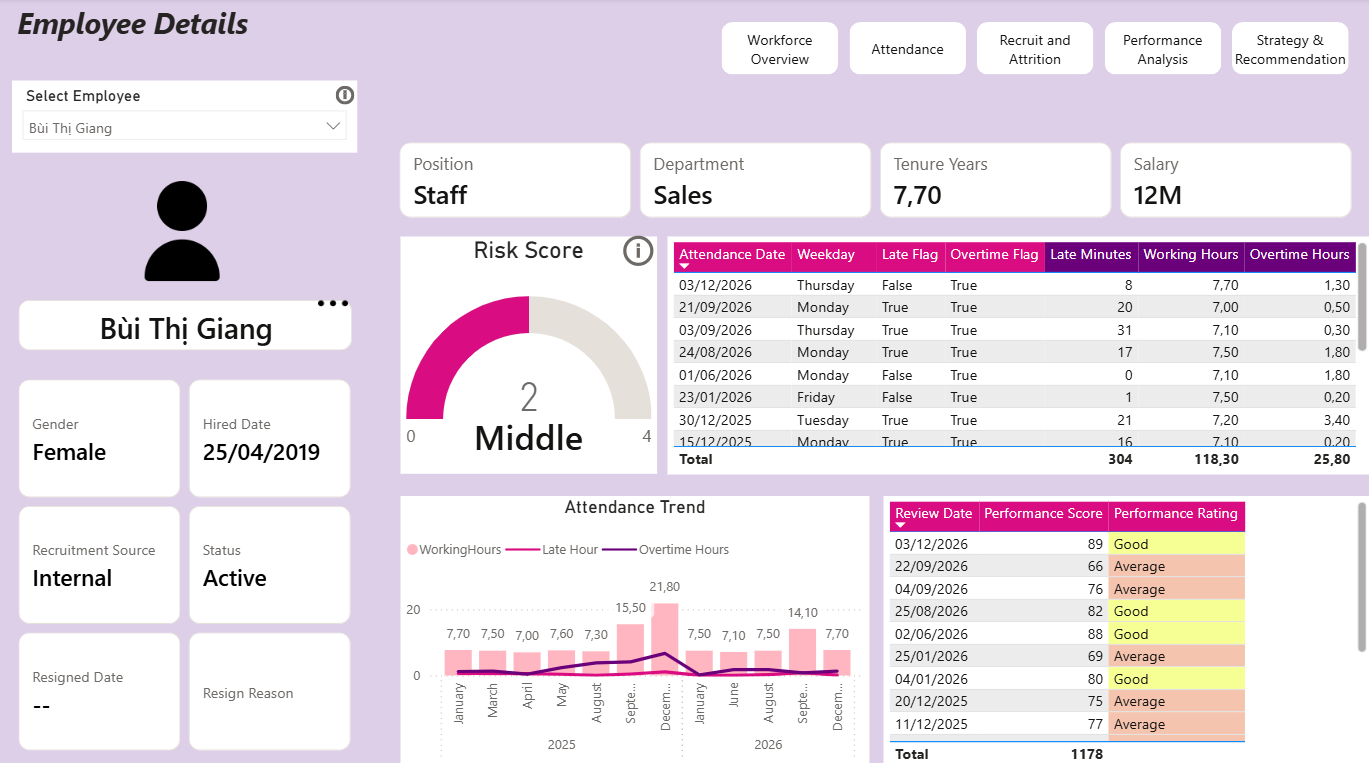

What the dashboard file says about the page in this screenshot:
{"tool":"powerbi","page":{"name":"Employee details","canvas":[1280,720],"ordinal":5},"visuals":[{"type":"textbox","box":[11.7,0,257.4,77.2],"z":0},{"type":"cardVisual","fields":{"Data":["Min(Employees.Position)","Min(Employees.Department)","Sum(Employees.TenureYears)","Median(Employees.Salary)"]},"box":[355.7,118.1,924.3,105],"z":1000},{"type":"slicer","title":"Choose the employee","fields":{"Values":["Employees.EmployeeName","Employees.EmployeeID"]},"box":[11.7,77.3,322.2,67.1],"z":2000},{"type":"tableEx","fields":{"Values":["Attendance.AttendanceDate","Attendance.Weekday","Attendance.LateFlag","Attendance.Overtime Flag","Sum(Attendance.LateMinutes)","Sum(Attendance.WorkingHours)","Sum(Attendance.OvertimeHours)"]},"box":[622.5,223.1,657.5,221.6],"z":3000},{"type":"tableEx","fields":{"Values":["Performance.ReviewDate","Sum(Performance.PerformanceScore)","Performance.PerformanceRating"]},"box":[823.7,464.9,455.8,254.4],"z":4000},{"type":"cardVisual","fields":{"Data":["Min(Employees.EmployeeName)"]},"box":[0,263.9,345.2,81.8],"z":5000},{"type":"cardVisual","fields":{"Data":["Min(Employees.Gender)","Min(Employees.HireDate)","Min(Employees.RecruitmentSource)","Min(Employees.EmploymentStatus)","Min(Employees.ResignedDate)","Min(Employees.ResignReason)"]},"box":[0,338.2,345.5,380.5],"z":6000},{"type":"gauge","title":"Risk Score","fields":{"MaxValue":["KPI Table.Max Risk Score"],"MinValue":["KPI Table.Min Risk Score"],"Y":["Sum(Employee_Risk.Risk Score)"]},"box":[373.2,223.1,239.1,221.6],"z":7000},{"type":"cardVisual","fields":{"Data":["Min(Employee_Risk.Risk Level)"]},"box":[411.9,360.4,163.5,92.4],"z":8000},{"type":"lineClusteredColumnComboChart","title":"Attendance Trend","fields":{"Y2":["Sum(Attendance.LateHour)","Sum(Attendance.OvertimeHours)"],"Y":["Sum(Attendance.WorkingHours)"],"Category":["Attendance.AttendanceDate.Variation.Date Hierarchy.Year","Attendance.AttendanceDate.Variation.Date Hierarchy.Month","Attendance.AttendanceDate.Variation.Date Hierarchy.Day"]},"box":[374,464.9,437.6,254.4],"z":9000},{"type":"image","box":[295.9,263.9,27.7,40.8],"z":10000},{"type":"image","box":[110.8,170.6,118.1,93.3],"z":11000},{"type":"actionButton","box":[309.2,71.3,25.2,39.2],"z":12000},{"type":"pageNavigator","box":[673.5,21.9,587.5,49.6],"z":13000},{"type":"actionButton","box":[575.9,217.2,55.4,37.9],"z":15000}]}

Visuals, with their boxes in screenshot pixels (x1, y1, x2, y2), scaled from the page's 1280x720 canvas onto the 1369x763 screenshot:
textbox: l=13, t=0, r=288, b=82
cardVisual - Min(Employees.Position) x Min(Employees.Department): l=380, t=125, r=1368, b=236
"Choose the employee" slicer: l=13, t=82, r=357, b=153
tableEx - Attendance.AttendanceDate x Attendance.Weekday: l=666, t=236, r=1368, b=471
tableEx - Performance.ReviewDate x Sum(Performance.PerformanceScore): l=881, t=493, r=1368, b=762
cardVisual - Min(Employees.EmployeeName): l=0, t=280, r=369, b=366
cardVisual - Min(Employees.Gender) x Min(Employees.HireDate): l=0, t=358, r=370, b=762
"Risk Score" gauge: l=399, t=236, r=655, b=471
cardVisual - Min(Employee_Risk.Risk Level): l=441, t=382, r=615, b=480
"Attendance Trend" lineClusteredColumnComboChart: l=400, t=493, r=868, b=762
image: l=316, t=280, r=346, b=323
image: l=119, t=181, r=245, b=280
actionButton: l=331, t=76, r=358, b=117
pageNavigator: l=720, t=23, r=1349, b=76
actionButton: l=616, t=230, r=675, b=270
